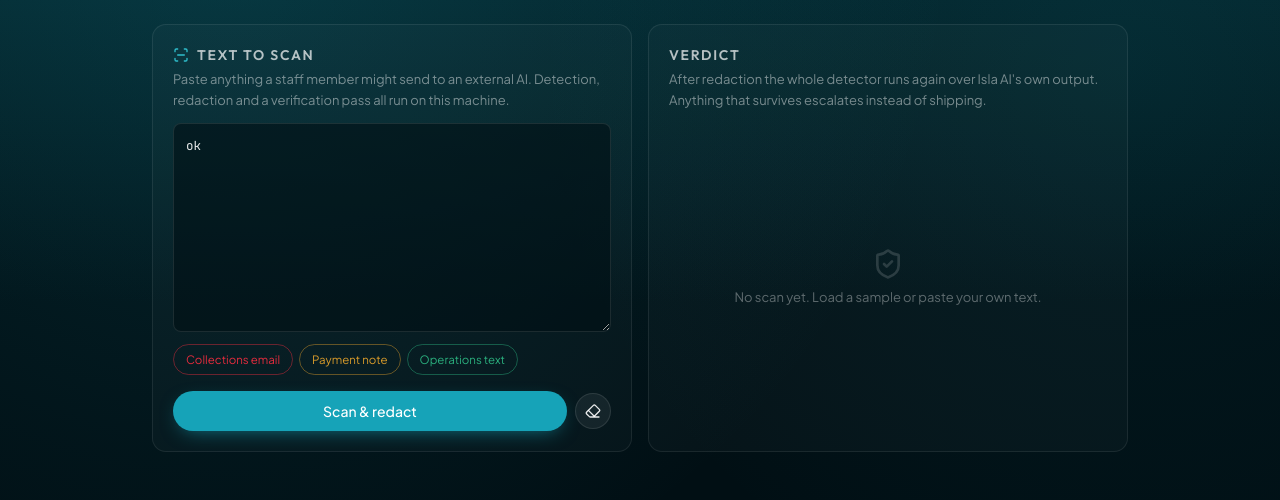
Test case: EgressGuard › does not crash when the engine returns no notes array
Step 1. Replace the text in the text box named "Text to scan for personal information" with "sensitive" → (392, 228), box [173, 123, 611, 332]
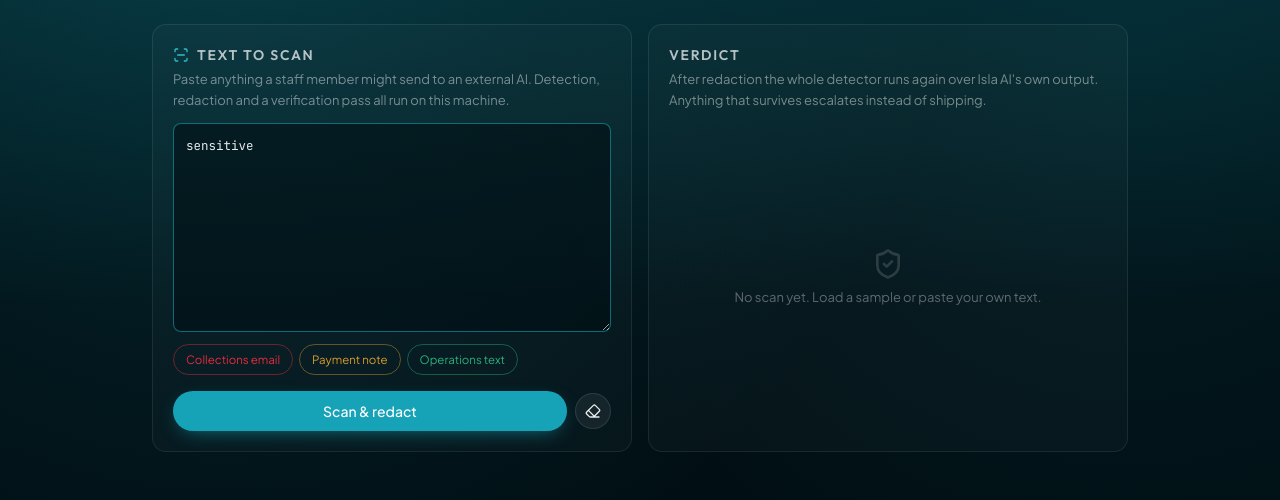
Step 2. Click the button "Scan & redact" → (370, 411), box [173, 391, 567, 431]
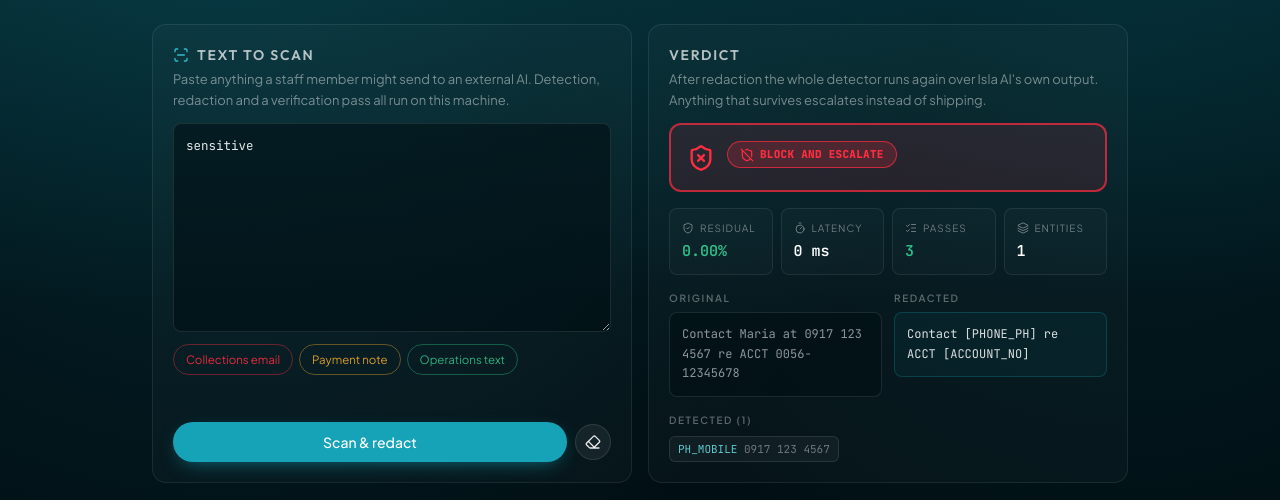
Check: the text "Contact Maria at 0917 123 4567 re ACCT 0056-12345678" is shown, box [669, 312, 882, 397]
